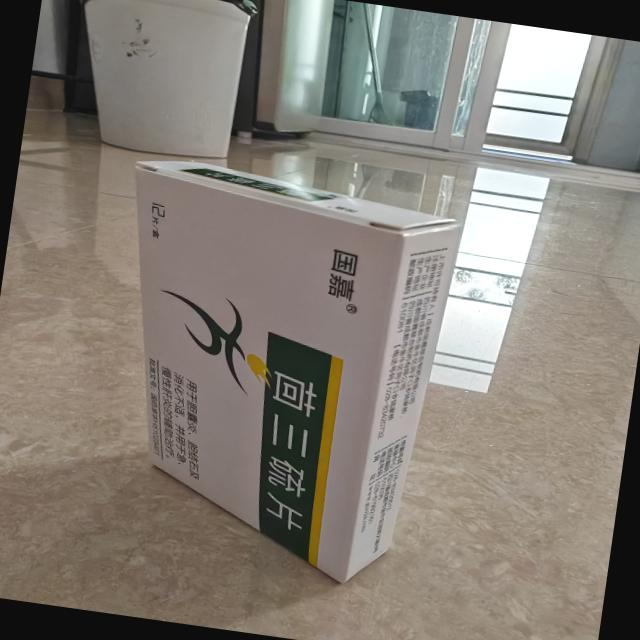box: (76, 146, 469, 596)
